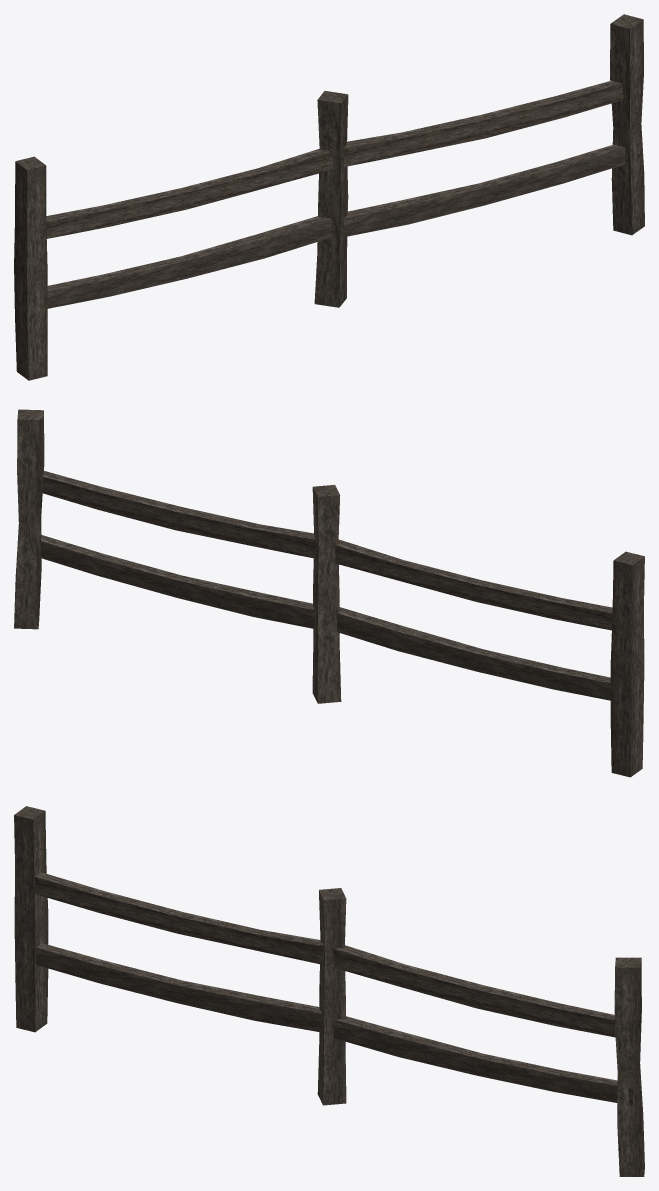
The model's file is Fence_01.fbx.
3 renders of one model, top to bottom at view 1: azimuth 30°, elevation 25°; view 2: azimuth 150°, elevation 25°; view 3: azimuth 330°, elevation 25°, orthographic.
Visible parts, largest first — view 1: Fence01_Rail0_0_Export, Fence01_Post1_Export, Fence01_Rail1_0_Export, Fence01_Rail1_1_Export, Fence01_Rail0_1_Export, Fence01_Post3_Export, Fence01_Post2_Export; view 2: Fence01_Post1_Export, Fence01_Rail0_0_Export, Fence01_Rail1_0_Export, Fence01_Rail1_1_Export, Fence01_Rail0_1_Export, Fence01_Post3_Export, Fence01_Post2_Export; view 3: Fence01_Rail0_0_Export, Fence01_Rail1_0_Export, Fence01_Rail1_1_Export, Fence01_Rail0_1_Export, Fence01_Post1_Export, Fence01_Post3_Export, Fence01_Post2_Export.
Part boxes in pixels (bbox=[...]): Fence01_Rail0_0_Export: bbox=[47, 216, 332, 308]; Fence01_Post1_Export: bbox=[14, 156, 47, 380]; Fence01_Rail1_0_Export: bbox=[329, 142, 640, 239]; Fence01_Rail1_1_Export: bbox=[328, 78, 640, 169]; Fence01_Rail0_1_Export: bbox=[46, 148, 332, 238]; Fence01_Post3_Export: bbox=[610, 14, 644, 235]; Fence01_Post2_Export: bbox=[314, 91, 348, 307]; Fence01_Post1_Export: bbox=[610, 551, 644, 777]; Fence01_Rail0_0_Export: bbox=[336, 607, 610, 700]; Fence01_Rail1_0_Export: bbox=[41, 535, 314, 628]; Fence01_Rail1_1_Export: bbox=[42, 471, 315, 558]; Fence01_Rail0_1_Export: bbox=[335, 539, 612, 630]; Fence01_Post3_Export: bbox=[14, 409, 44, 629]; Fence01_Post2_Export: bbox=[312, 484, 341, 703]; Fence01_Rail0_0_Export: bbox=[36, 943, 322, 1032]; Fence01_Rail1_0_Export: bbox=[320, 1016, 634, 1105]; Fence01_Rail1_1_Export: bbox=[320, 943, 633, 1040]; Fence01_Rail0_1_Export: bbox=[34, 872, 322, 964]; Fence01_Post1_Export: bbox=[14, 806, 48, 1032]; Fence01_Post3_Export: bbox=[614, 957, 644, 1176]; Fence01_Post2_Export: bbox=[317, 888, 346, 1105].
Size of the model in its own units: 1251 by 406 by 63.29.
1 material, 1 textured.
